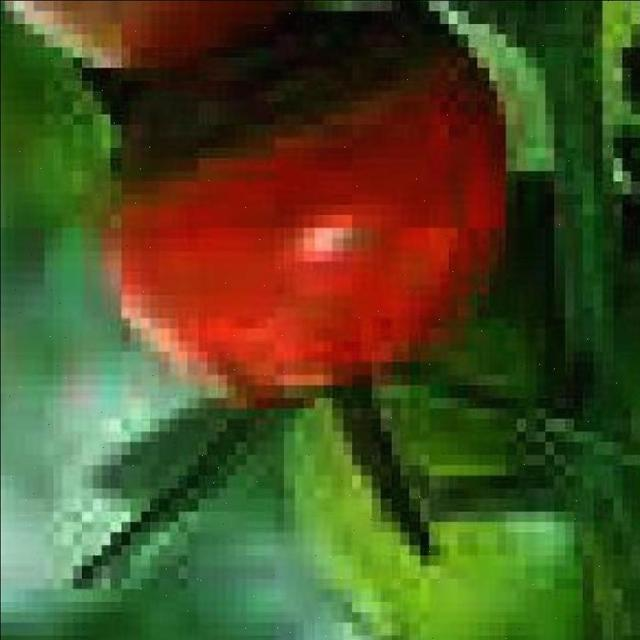Blossom End Rot Fruit: (65, 0, 300, 139)
